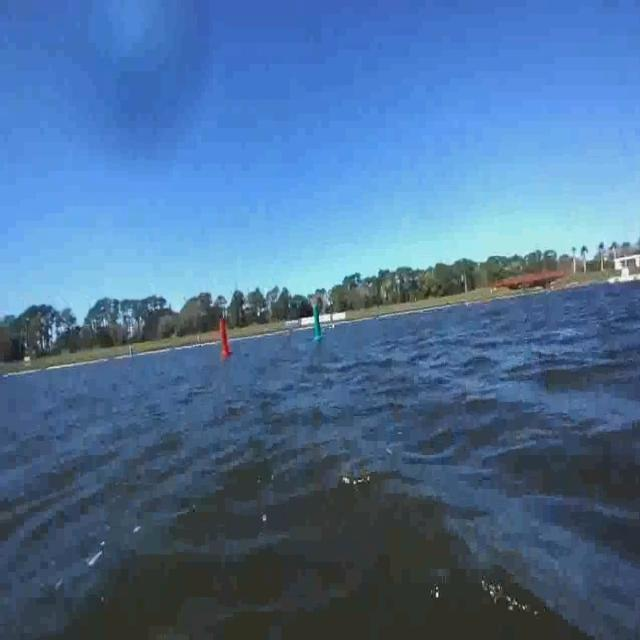green-column-buoy: (310, 294, 327, 343)
red-column-buoy: (215, 312, 231, 370)
